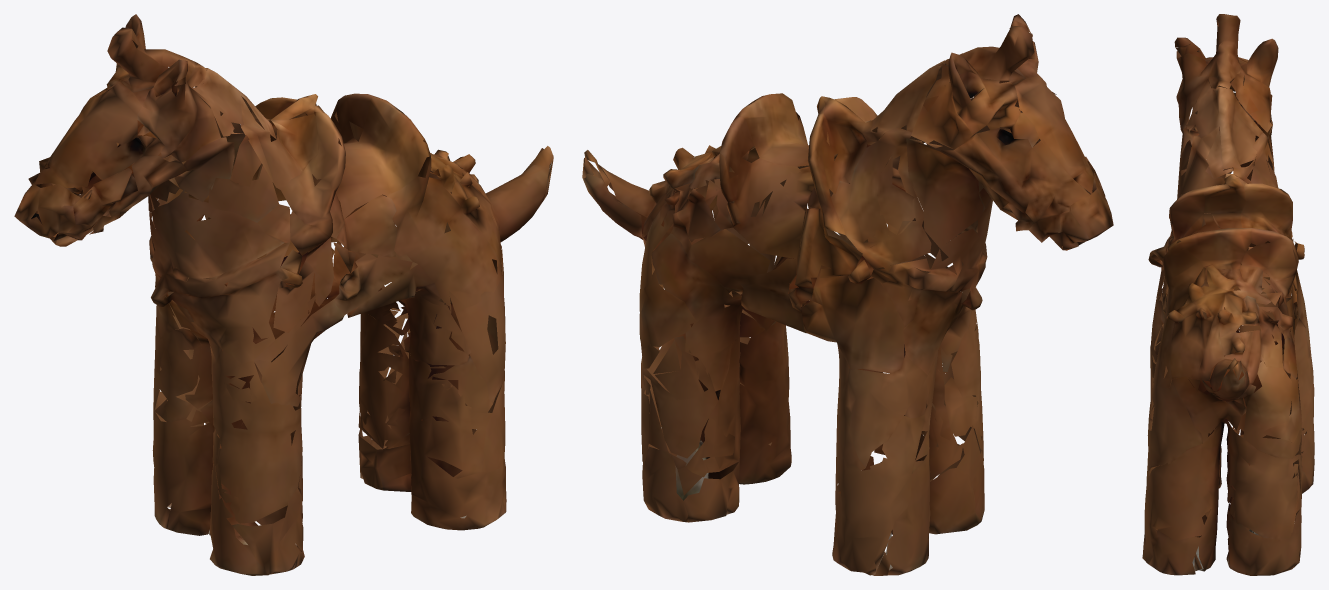
The model's file is sf-haniwa-horse.lod1.glb.
3 renders of one model, left to right at view 1: azimuth 30°, elevation 25°; view 2: azimuth 150°, elevation 25°; view 3: azimuth 270°, elevation 25°, orthographic. The views are drawn at different scales.
Visible parts, largest first — view 1: Object_6, Object_8, Object_2, Object_3, Object_5, Object_4, Object_7, Object_9, Object_10; view 2: Object_3, Object_7, Object_2, Object_9, Object_8, Object_4, Object_5, Object_6, Object_10; view 3: Object_2, Object_3, Object_5, Object_4, Object_6, Object_8, Object_7, Object_9, Object_10, Object_11.
Boxes of the visible parts, left/top/right/bottom form: Object_6: left=149, top=146, right=553, bottom=574; Object_8: left=34, top=14, right=285, bottom=575; Object_2: left=204, top=93, right=549, bottom=354; Object_3: left=158, top=68, right=417, bottom=406; Object_5: left=358, top=303, right=506, bottom=530; Object_4: left=165, top=230, right=469, bottom=525; Object_7: left=149, top=212, right=300, bottom=535; Object_9: left=14, top=96, right=463, bottom=325; Object_10: left=54, top=77, right=408, bottom=539; Object_3: left=639, top=60, right=967, bottom=391; Object_7: left=832, top=230, right=983, bottom=575; Object_2: left=598, top=93, right=862, bottom=368; Object_9: left=650, top=128, right=1113, bottom=401; Object_8: left=864, top=14, right=1093, bottom=575; Object_4: left=641, top=183, right=963, bottom=500; Object_5: left=642, top=313, right=791, bottom=522; Object_6: left=582, top=133, right=992, bottom=481; Object_10: left=648, top=28, right=1092, bottom=512; Object_2: left=1150, top=213, right=1302, bottom=458; Object_3: left=1150, top=79, right=1302, bottom=442; Object_5: left=1142, top=419, right=1301, bottom=575; Object_4: left=1150, top=260, right=1306, bottom=539; Object_6: left=1147, top=151, right=1255, bottom=472; Object_8: left=1174, top=14, right=1278, bottom=488; Object_7: left=1159, top=239, right=1314, bottom=493; Object_9: left=1166, top=92, right=1301, bottom=454; Object_10: left=1175, top=47, right=1301, bottom=519; Object_11: left=1151, top=242, right=1242, bottom=571.
Bounding box in the file's own units: 0.7563 × 0.7263 × 0.2649.
Materials: 1 (1 with a texture image).
